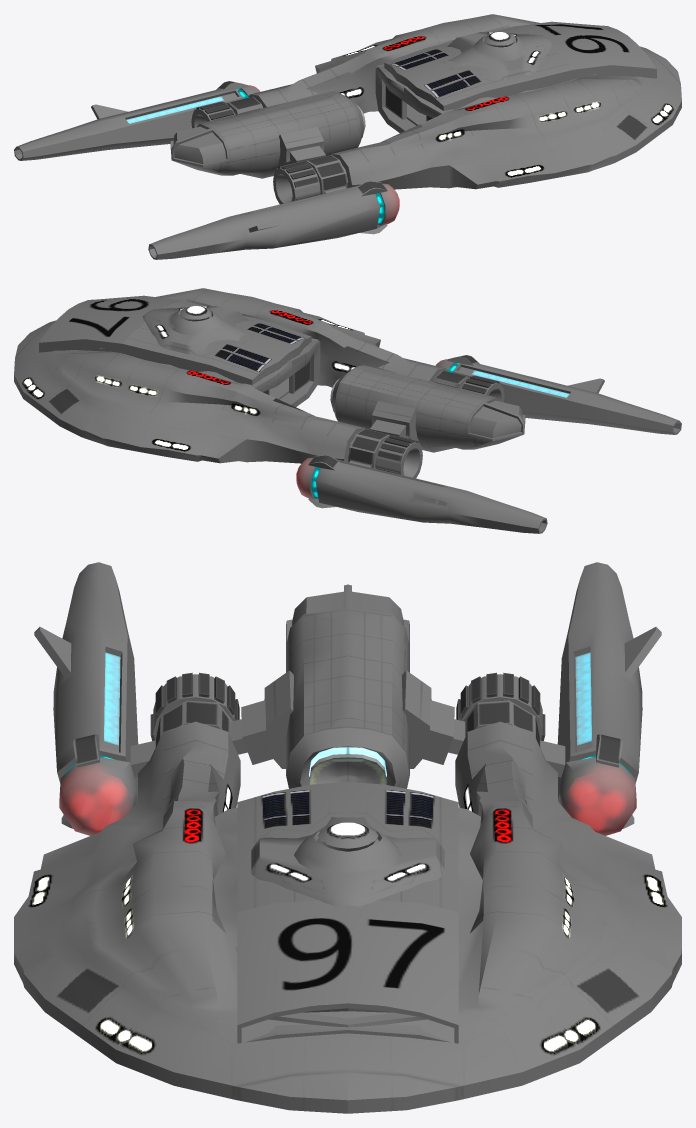
Rendered from USS AURORA hi res.fbx.
3 views of the same model, one above another, from view 1: azimuth 30°, elevation 25°; view 2: azimuth 150°, elevation 25°; view 3: azimuth 270°, elevation 25° (orthographic). The views are drawn at different scales.
Parts seen in each view (by area): view 1: Null_1_1; view 2: Null_1_1; view 3: Null_1_1.
Boxes of the visible parts, left/top/right/bottom form: Null_1_1: left=14, top=14, right=681, bottom=259; Null_1_1: left=14, top=288, right=681, bottom=533; Null_1_1: left=14, top=562, right=681, bottom=1113.
Bounding box in the file's own units: 679 × 110 × 362.
2 materials, 2 textured.
